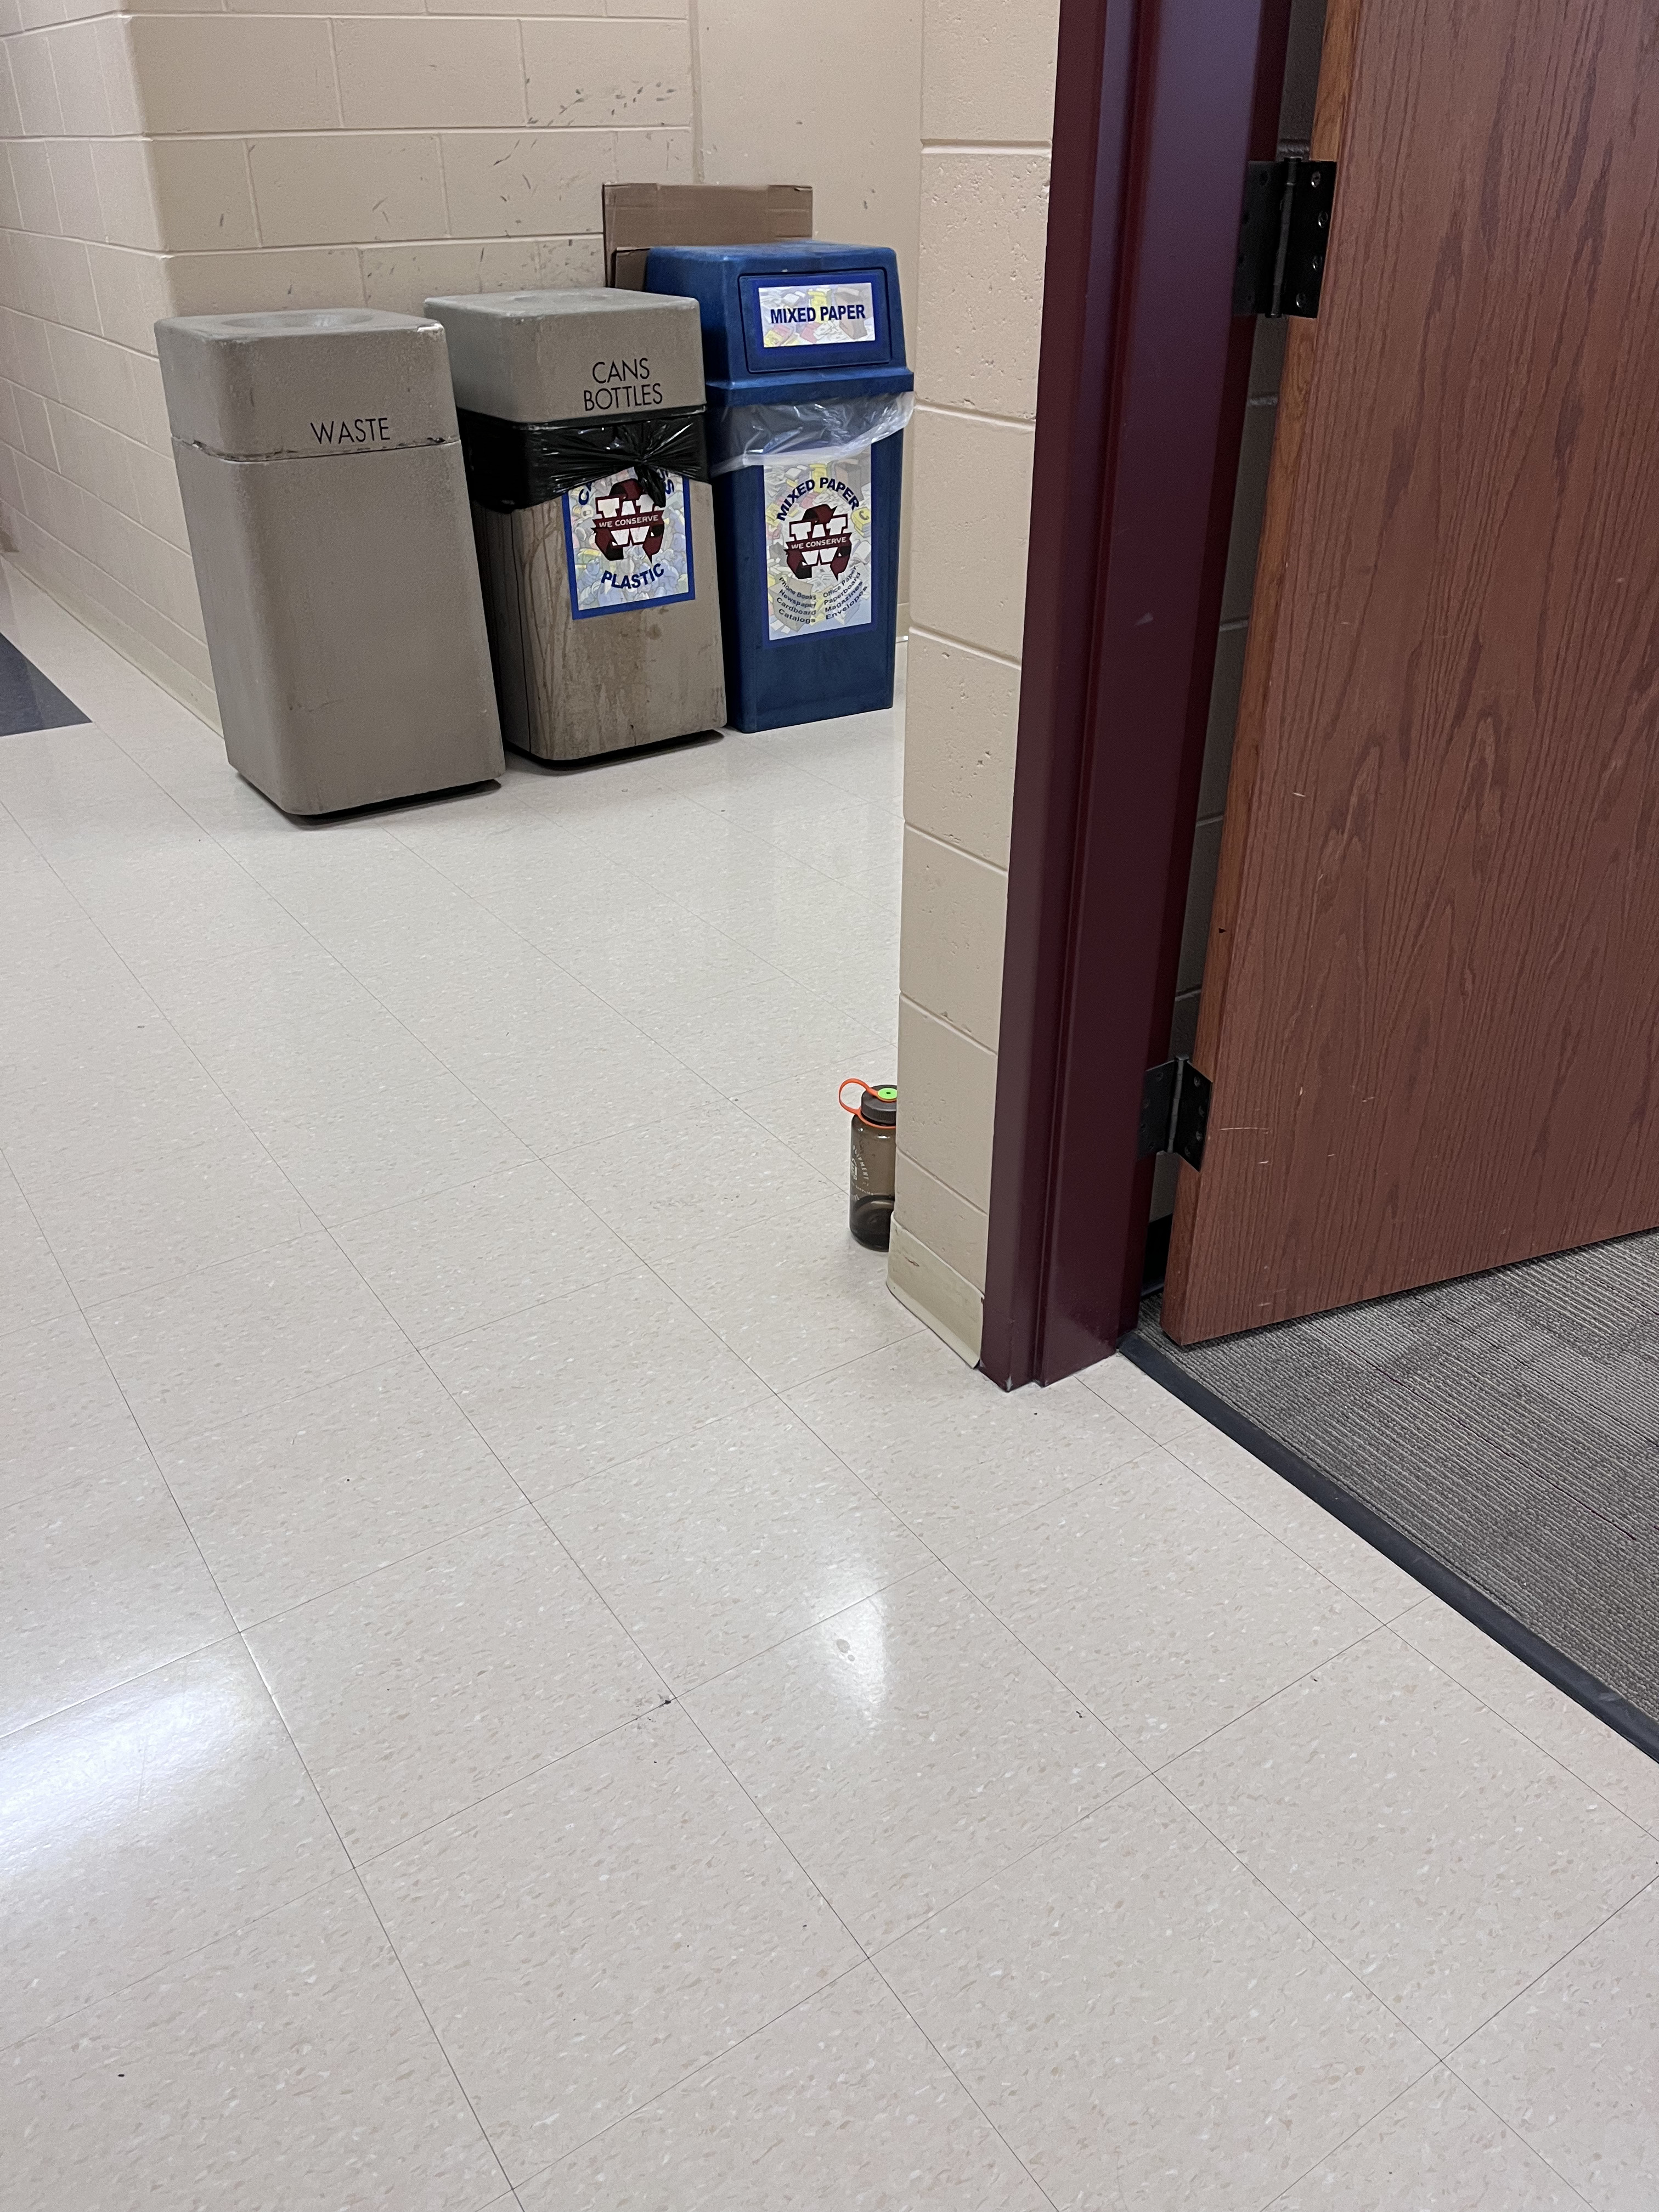bottle: (835, 1068, 899, 1258)
